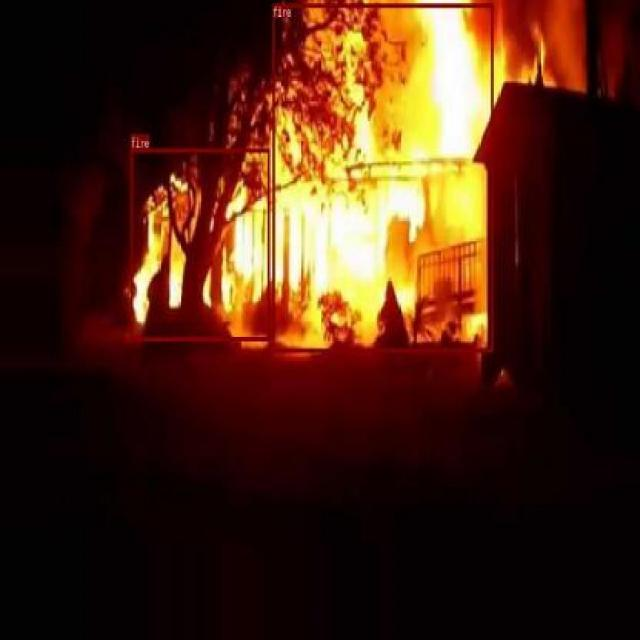Fire: (272, 2, 494, 352), (130, 147, 270, 340)
